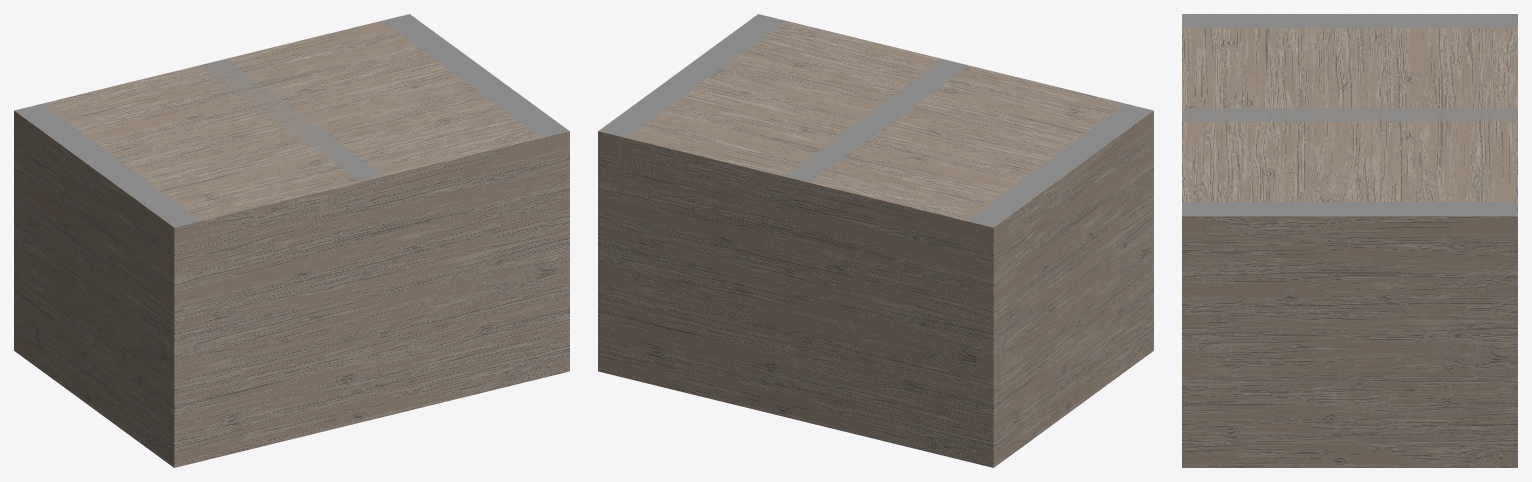
The model's file is si_crate.DAE.
3 views of the same model, side by side, from view 1: azimuth 30°, elevation 25°; view 2: azimuth 150°, elevation 25°; view 3: azimuth 270°, elevation 25° (orthographic). The views are drawn at different scales.
Parts seen in each view (by area): view 1: Colmesh-1, si_crate80, si_crate25; view 2: Colmesh-1, si_crate80, si_crate25; view 3: Colmesh-1, si_crate80, si_crate25.
Part boxes in pixels (left/top/right/bottom): Colmesh-1: left=14, top=14, right=569, bottom=467; si_crate80: left=16, top=14, right=567, bottom=227; si_crate25: left=17, top=15, right=567, bottom=226; Colmesh-1: left=598, top=14, right=1153, bottom=467; si_crate80: left=600, top=14, right=1152, bottom=226; si_crate25: left=601, top=14, right=1151, bottom=226; Colmesh-1: left=1182, top=14, right=1517, bottom=467; si_crate80: left=1182, top=14, right=1516, bottom=215; si_crate25: left=1182, top=14, right=1516, bottom=215.
Size of the model in its own units: 121 by 84.57 by 69.96.
